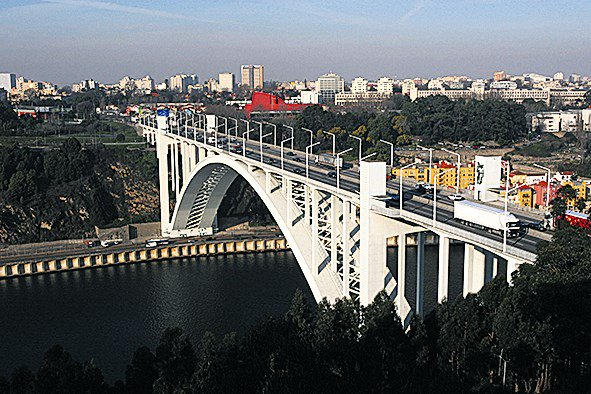arrabida: (126, 91, 567, 338)
